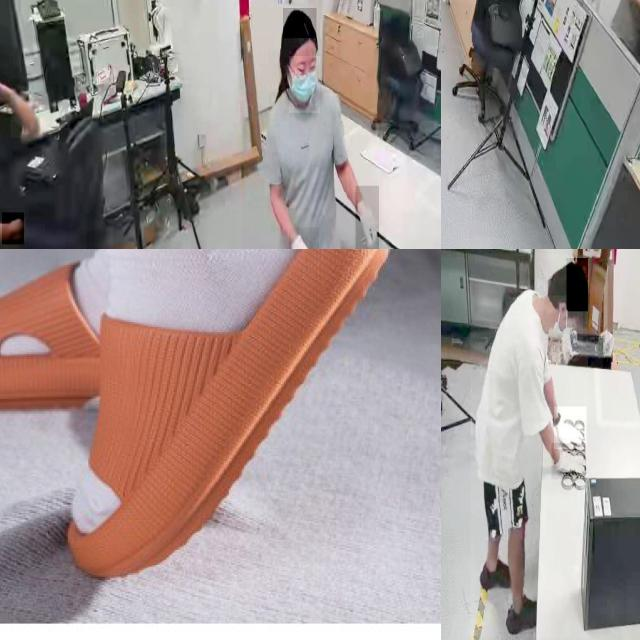Sandals: (0, 249, 427, 600)
face_mask: (541, 295, 583, 357), (289, 56, 320, 113)
hand_glove: (355, 185, 379, 249), (554, 407, 586, 449), (552, 443, 586, 480), (288, 227, 319, 249)
hand_noglove: (10, 95, 42, 139), (2, 212, 24, 245)
head_nohelmet: (566, 258, 588, 312), (283, 8, 317, 39)
person: (471, 254, 588, 638), (242, 0, 381, 249)
shoes: (505, 592, 546, 638), (478, 556, 515, 590)
